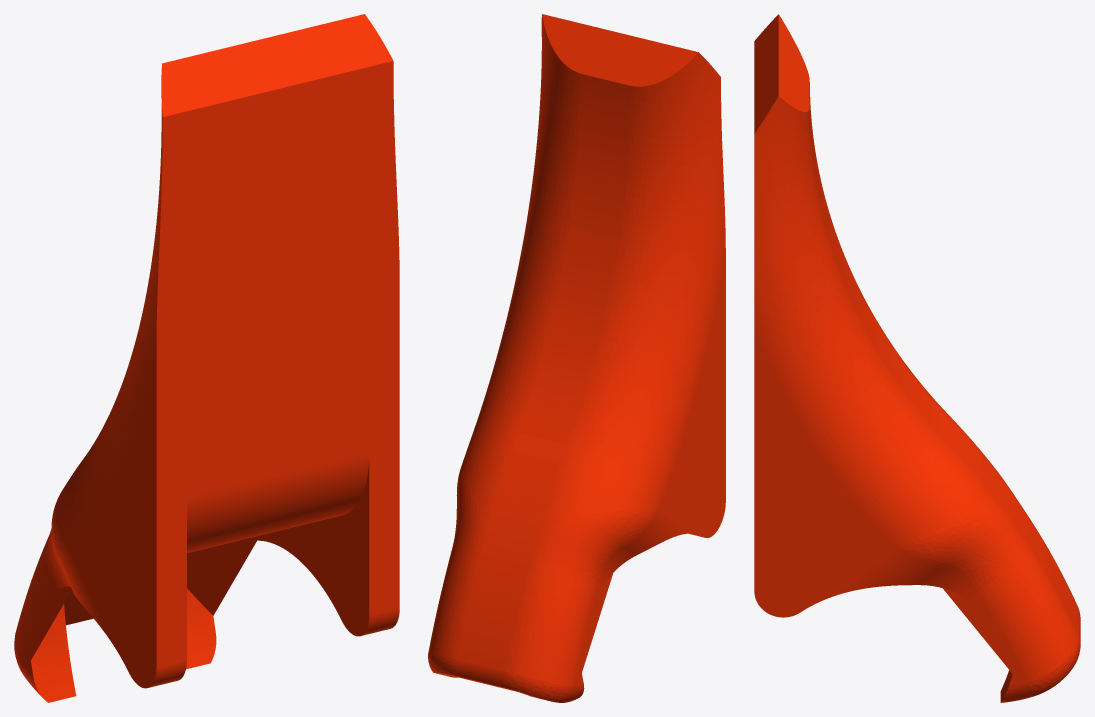
File: L_Hand_Thumb_Proximal_visuals_ALLEX_Left_Hand_Thumb_Proximal_Pad.obj
3 renders of one model, left to right at view 1: azimuth 30°, elevation 25°; view 2: azimuth 150°, elevation 25°; view 3: azimuth 270°, elevation 25°, orthographic. The views are drawn at different scales.
Bounding box in the file's own units: 0.016 × 0.0467 × 0.0224.
